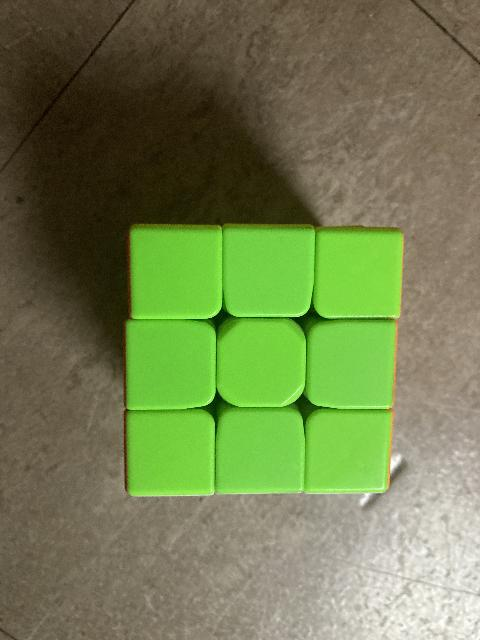Green: (132, 226, 218, 316), (227, 226, 309, 314), (220, 322, 303, 406), (131, 322, 213, 406), (318, 232, 400, 314), (312, 324, 392, 408), (128, 414, 212, 494), (222, 412, 300, 490), (310, 410, 386, 488)
